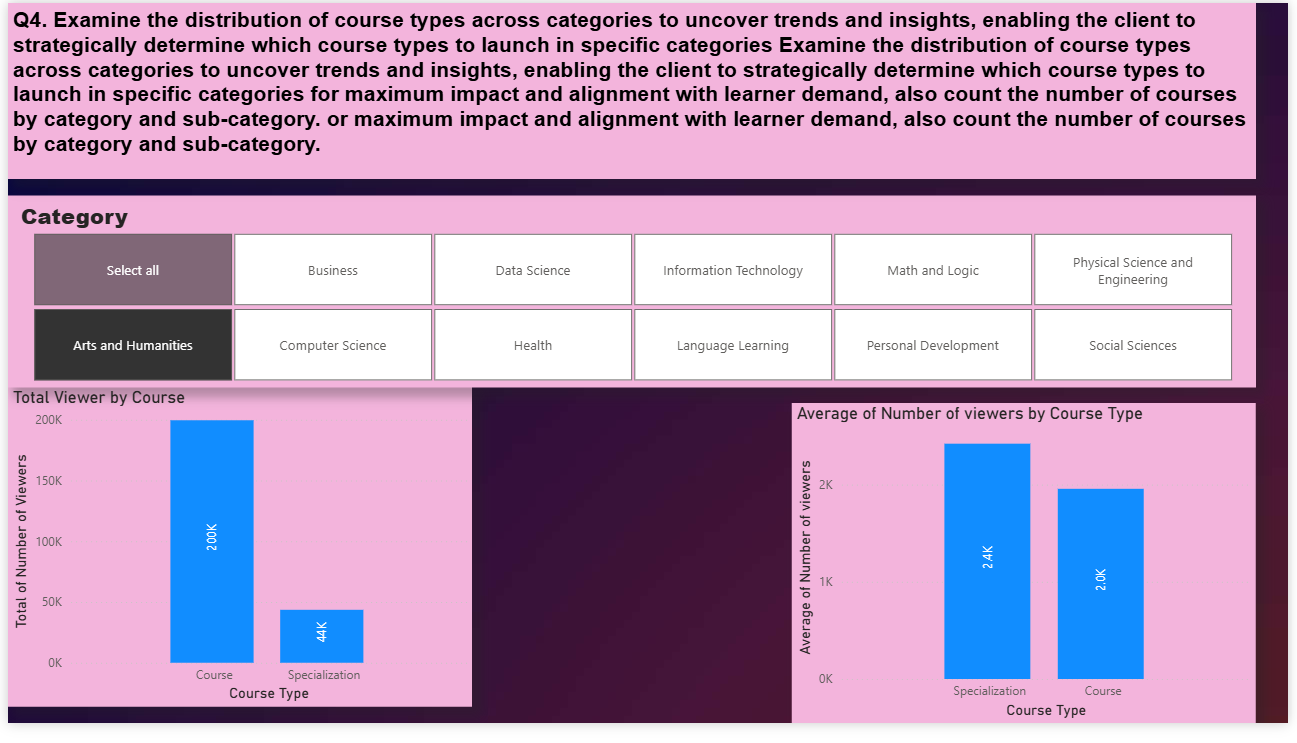

What the dashboard file says about the page in this screenshot:
{"tool":"powerbi","page":{"name":"Q4","canvas":[1280,720],"ordinal":4},"visuals":[{"type":"clusteredColumnChart","title":"Total Viewer by Course","fields":{"Y":["Sum(Online_Courses.Number of viewers)"],"Category":["Online_Courses.Course Type"]},"box":[0,384,464,320],"z":0},{"type":"slicer","fields":{"Values":["Online_Courses.Category"]},"box":[0,192,1248,192],"z":1000},{"type":"clusteredColumnChart","fields":{"Y":["Avg(Online_Courses.Number of viewers)"],"Category":["Online_Courses.Course Type"]},"box":[784,400,464,320],"z":2000},{"type":"textbox","box":[0,0,1248,176],"z":3000}]}

Visuals, with their boxes in screenshot pixels (x1, y1, x2, y2), scaled from the page's 1280x720 canvas onto the 1297x743 screenshot:
"Total Viewer by Course" clusteredColumnChart: bbox=[0, 396, 470, 726]
slicer - Online_Courses.Category: bbox=[0, 198, 1265, 396]
clusteredColumnChart - Avg(Online_Courses.Number of viewers) x Online_Courses.Course Type: bbox=[794, 413, 1265, 742]
textbox: bbox=[0, 0, 1265, 182]
